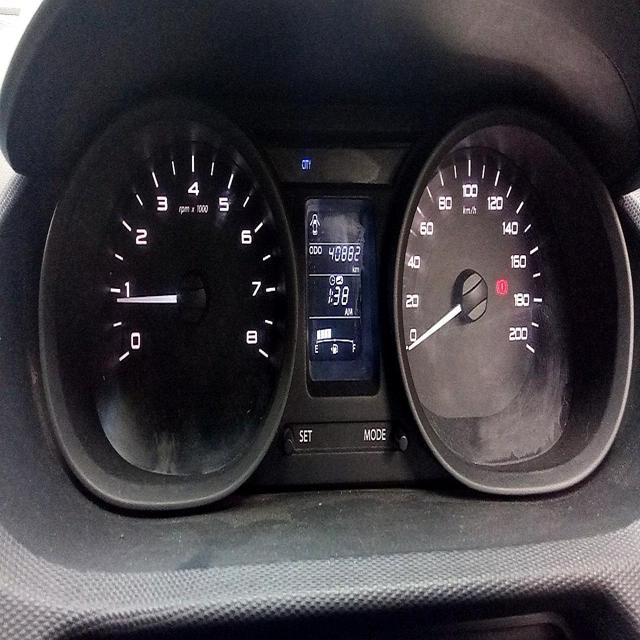odometer: (326, 240, 362, 264)
